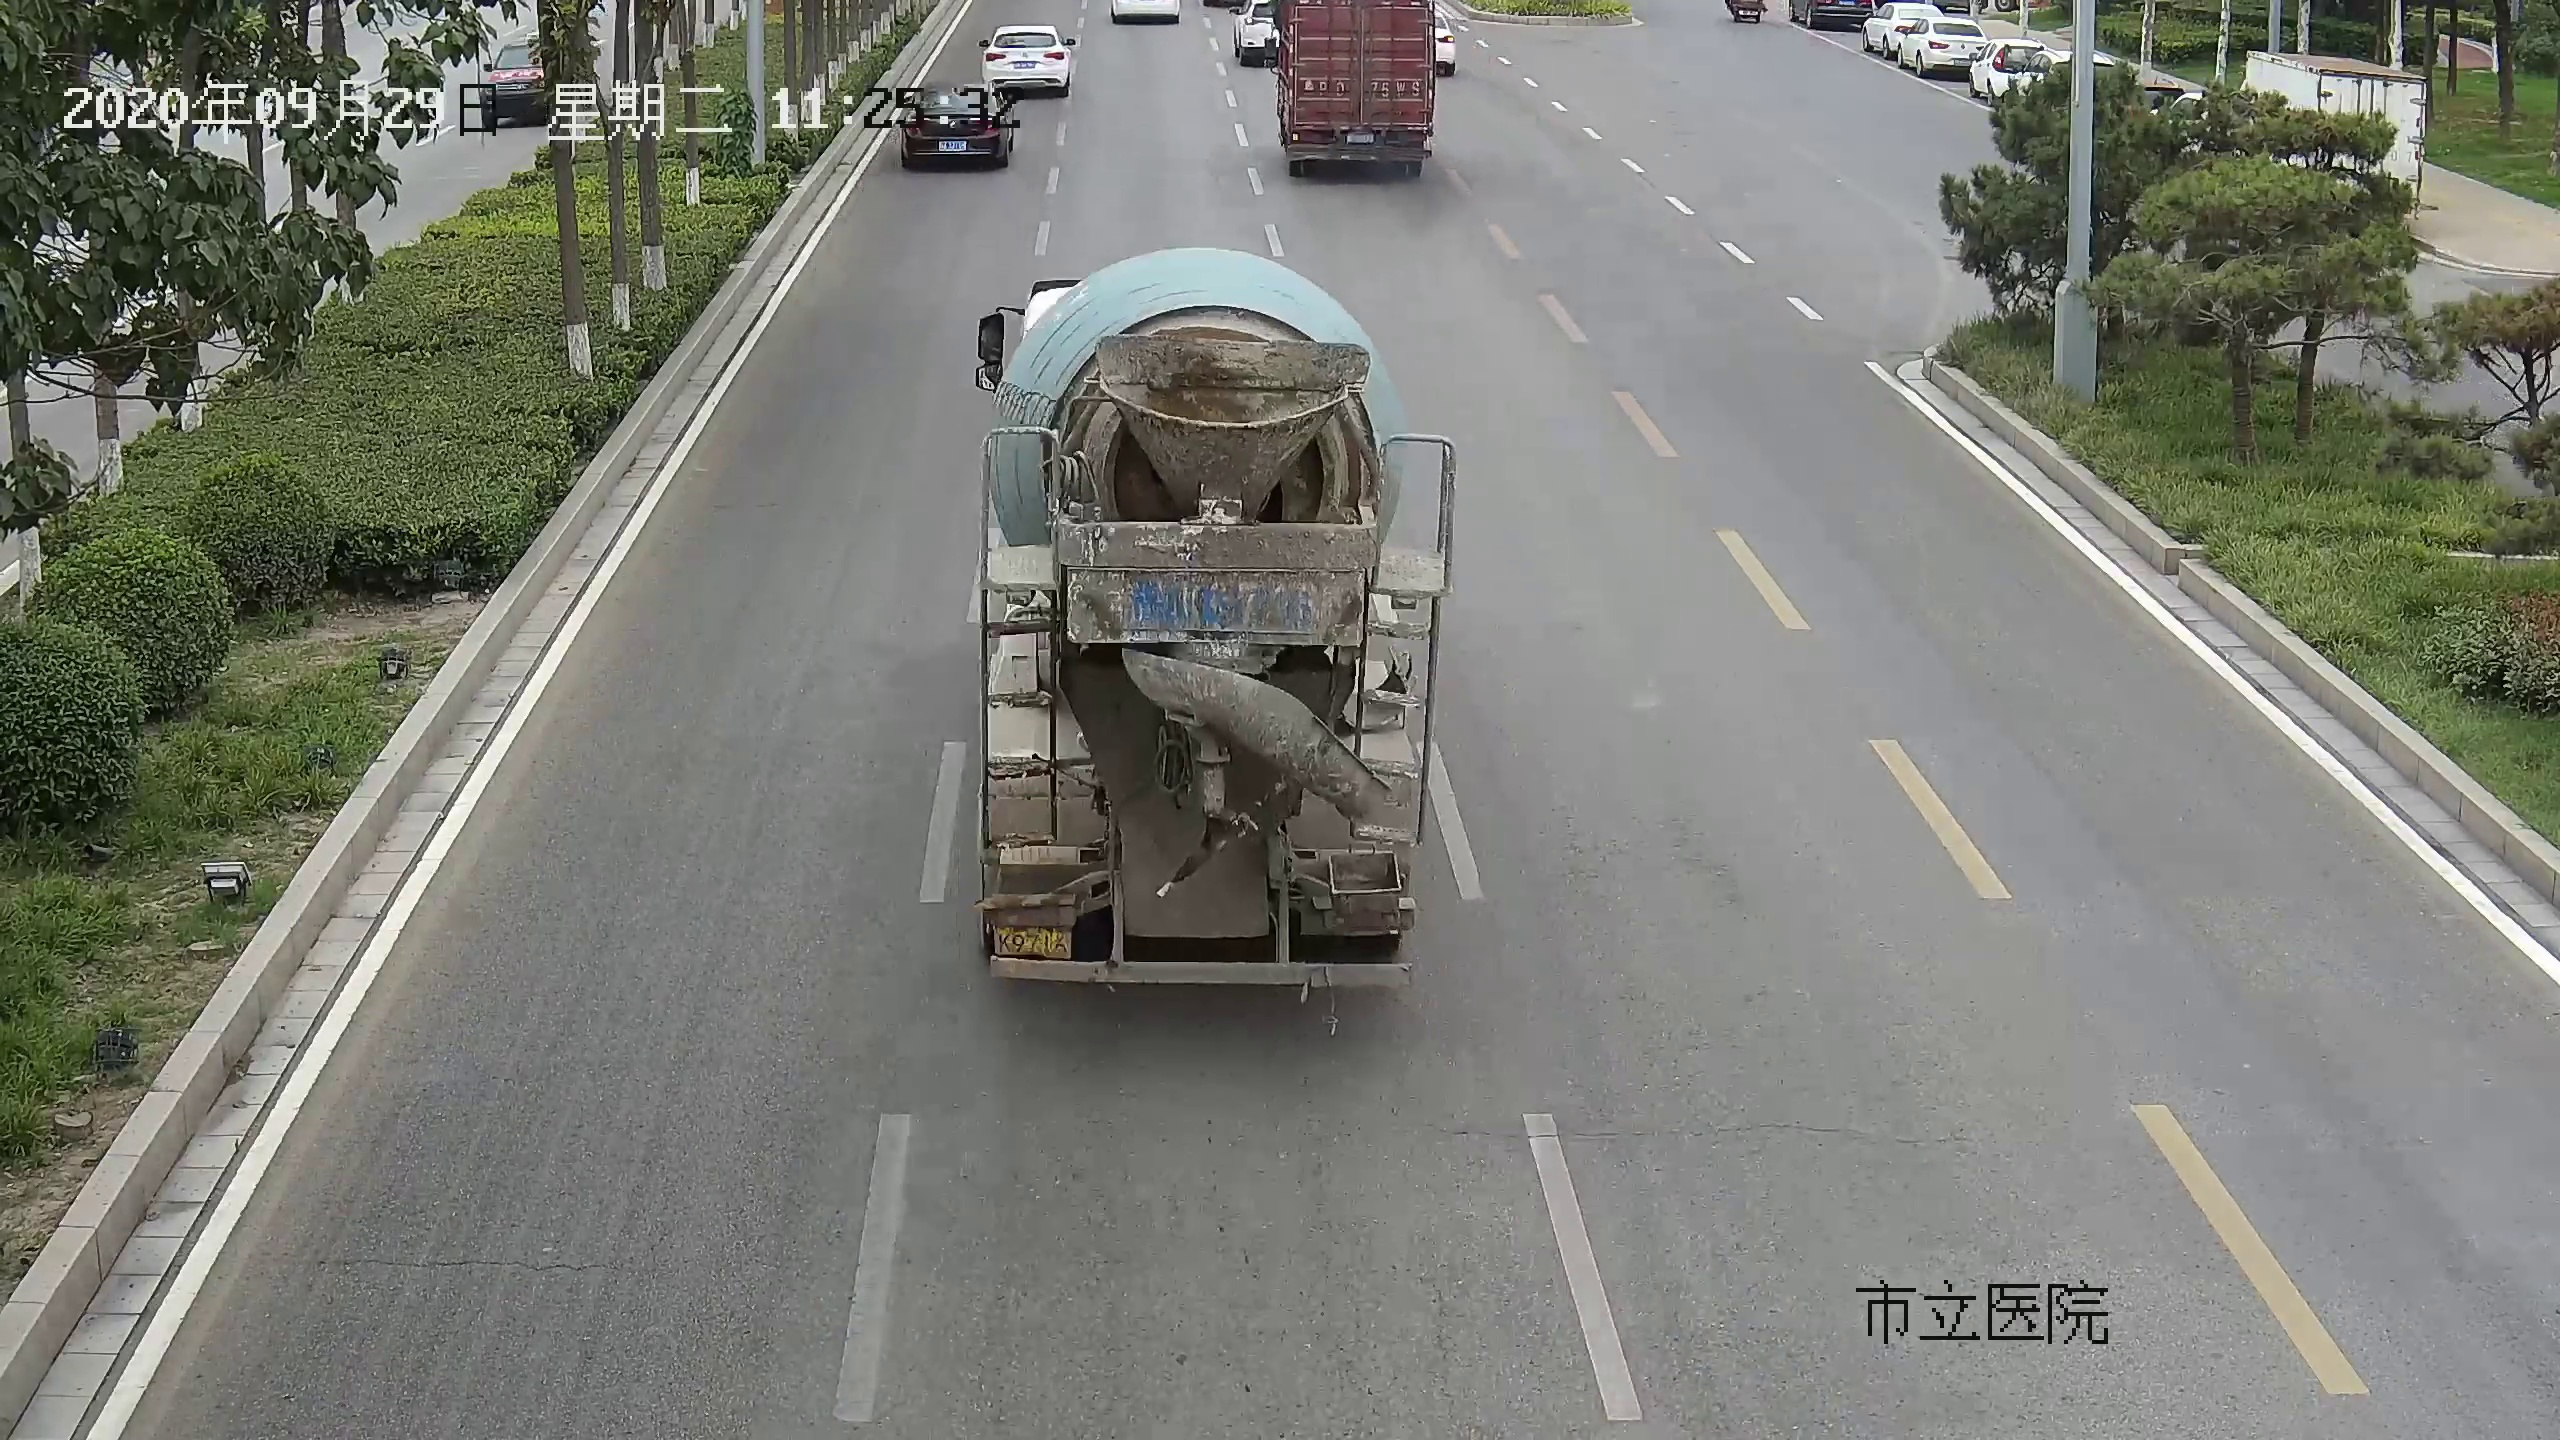normal: (1025, 299, 1380, 972), (993, 33, 1071, 95)
smoky: (1298, 2, 1436, 239)
